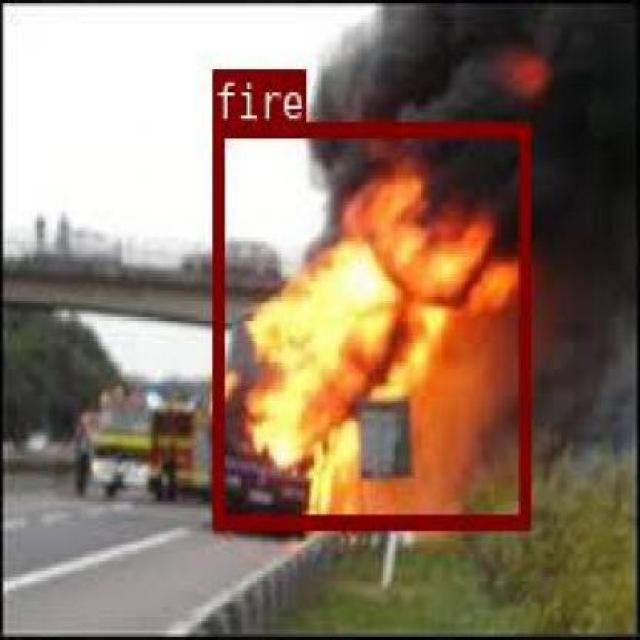fire: (210, 120, 527, 528)
